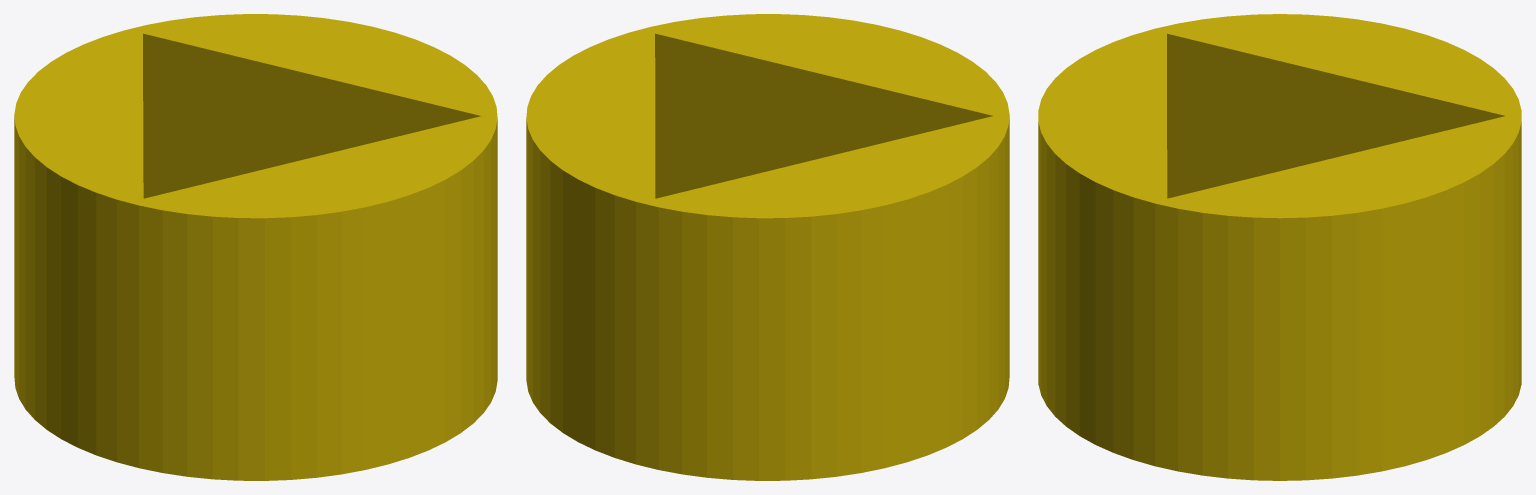
File: sanjiakong.dae
3 renders of one model, left to right at view 1: azimuth 30°, elevation 25°; view 2: azimuth 150°, elevation 25°; view 3: azimuth 270°, elevation 25°, orthographic.
Parts seen in each view (by area): view 1: Sanjiaokong; view 2: Sanjiaokong; view 3: Sanjiaokong.
Boxes of the visible parts, x1=… form: Sanjiaokong: x1=14, y1=14, x2=497, y2=480; Sanjiaokong: x1=526, y1=14, x2=1009, y2=480; Sanjiaokong: x1=1038, y1=14, x2=1521, y2=480.
Size of the model in its own units: 0.1 by 0.1 by 0.06.
